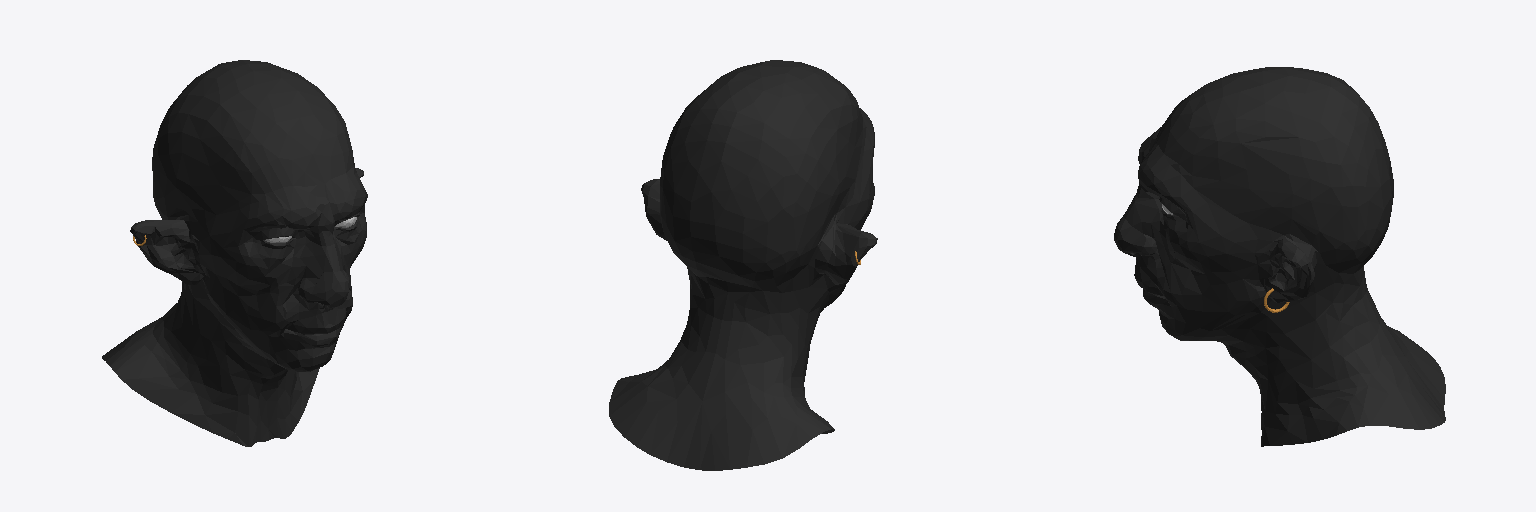
Rendered from GoblinX.obj.
The picture shows the model from 3 angles: view 1: azimuth 30°, elevation 25°; view 2: azimuth 150°, elevation 25°; view 3: azimuth 270°, elevation 25°; orthographic projection.
Parts seen in each view (by area): view 1: Goblin; view 2: Goblin; view 3: Goblin.
Part boxes in pixels (left/top/right/bottom): Goblin: left=102, top=60, right=367, bottom=446; Goblin: left=609, top=60, right=877, bottom=470; Goblin: left=1114, top=67, right=1445, bottom=446.
Size of the model in its own units: 2.07 by 3.08 by 2.56.